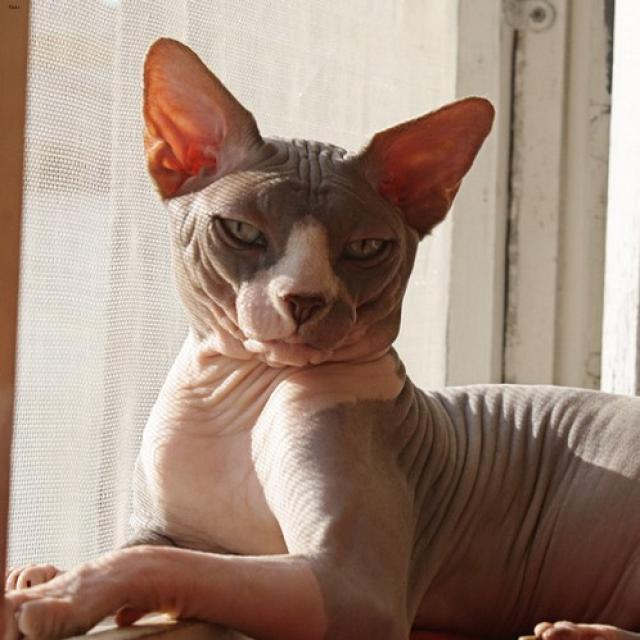Sphynx: (139, 35, 498, 367)
